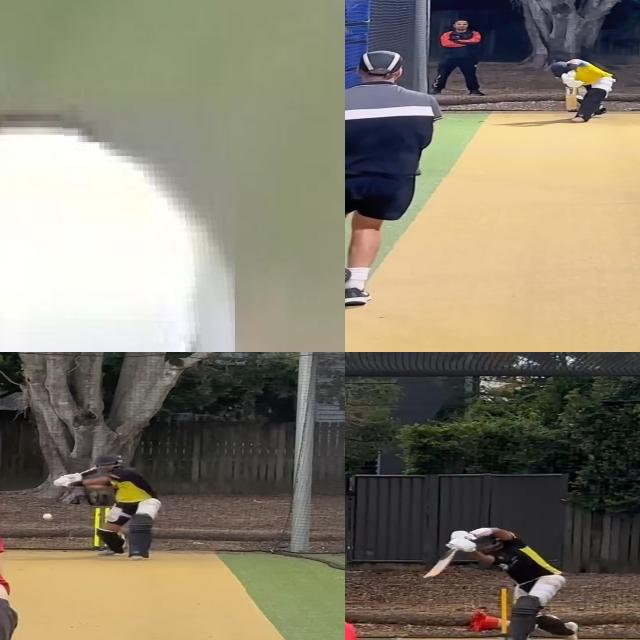Cricket ball: (0, 107, 235, 352), (42, 512, 54, 521)
